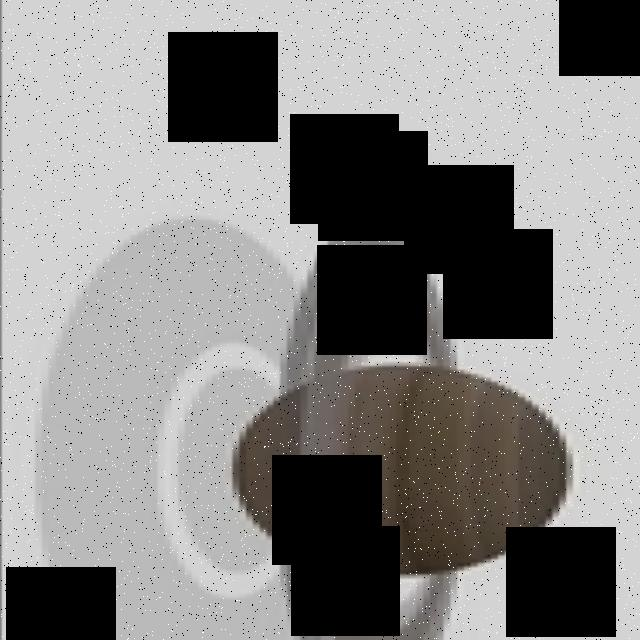Saturn: (232, 212, 586, 640)
